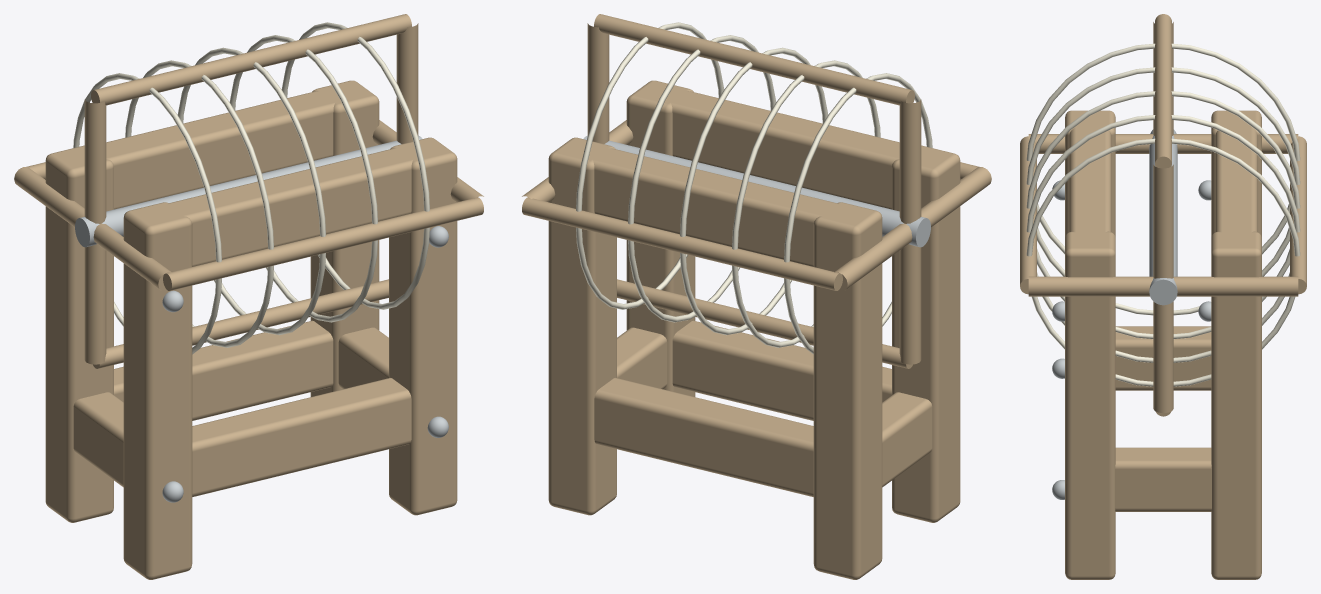
The model's file is textile-weaving-and-dye-workshop-skein-winder-4caa32af__29543.glb.
3 views of the same model, side by side, from view 1: azimuth 30°, elevation 25°; view 2: azimuth 150°, elevation 25°; view 3: azimuth 270°, elevation 25° (orthographic). The views are drawn at different scales.
Parts seen in each view (by area): view 1: skein-winder; view 2: skein-winder; view 3: skein-winder.
Part boxes in pixels (x1=…): skein-winder: x1=14, y1=14, x2=483, y2=579; skein-winder: x1=522, y1=14, x2=991, y2=579; skein-winder: x1=1020, y1=14, x2=1306, y2=579.
Size of the model in its own units: 0.65 by 0.835 by 0.51.
